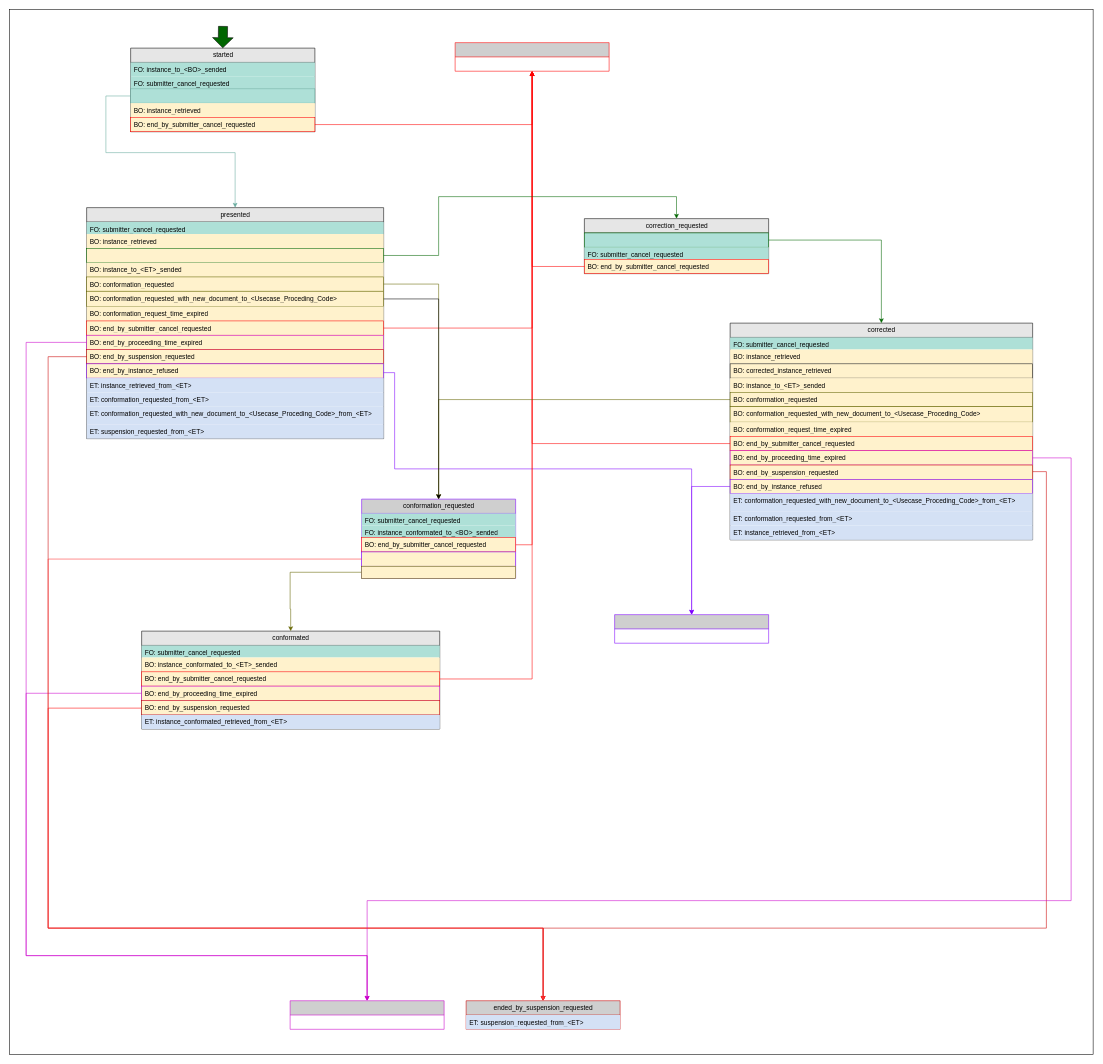
This 1103x1064 diagram has some shape labels left out. The centre of each missing label's shape, as x and y in pixels:
BO: conformation_response_time_expired: [438,558]
BO: correction_request: [235,255]
BO: instance_conformated_retrieved: [438,572]
ended_by_proceeding_time_expired: [367,1014]
ended_by_submitter_cancel_requested: [532,56]
FO: corrected_instance_to_<BO>_sended: [676,239]
FO: receipt_sended: [222,95]
refused: [691,628]
